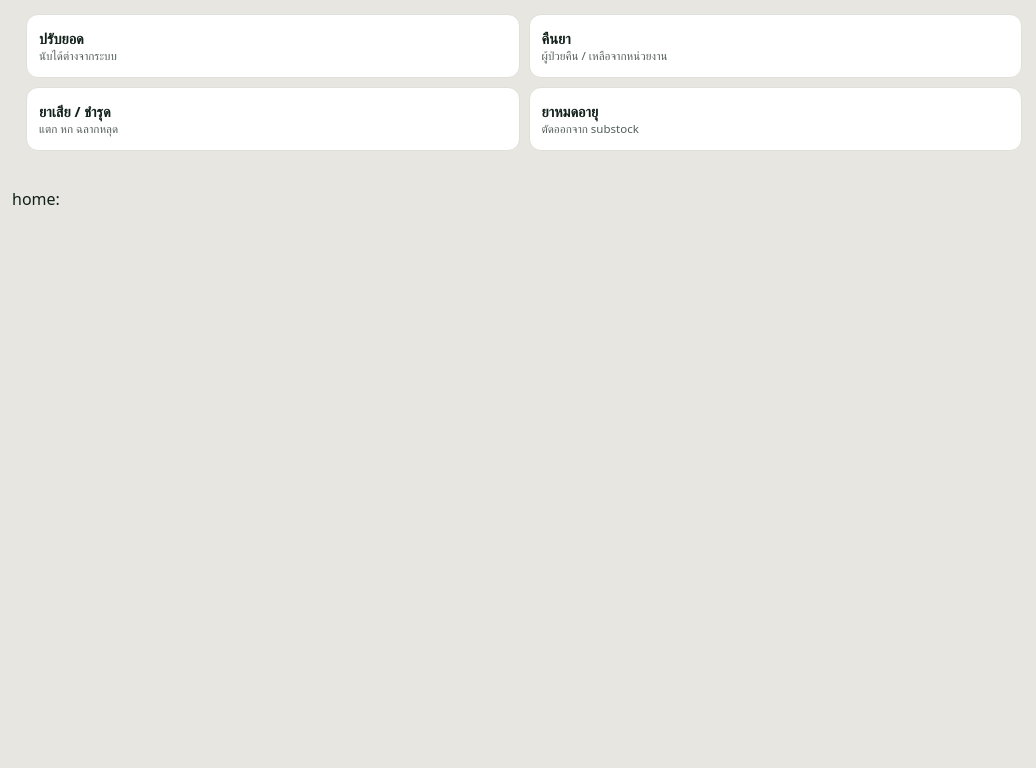
Scenario: AdjustScreen — search-result row CardPeekButton regression › tapping the row itself still picks the med for adjustment (the row's own primary action still works)
The width and height of the screenshot is (1036, 768).
Click the button "ปรับยอด นับได้ต่างจากระบบ" at x=61, y=38, box 26,14 -> 520,78
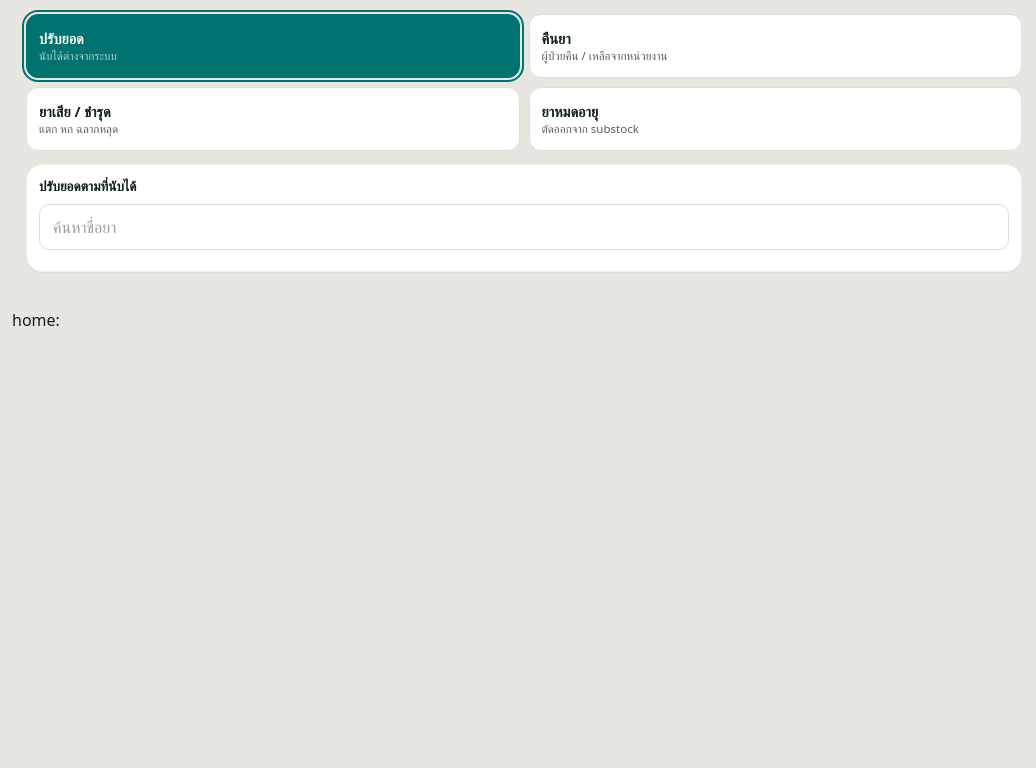
Type "Paracetamol" into the field with placeholder "ค้นหาชื่อยา" at x=524, y=227, box 39,204 -> 1009,250
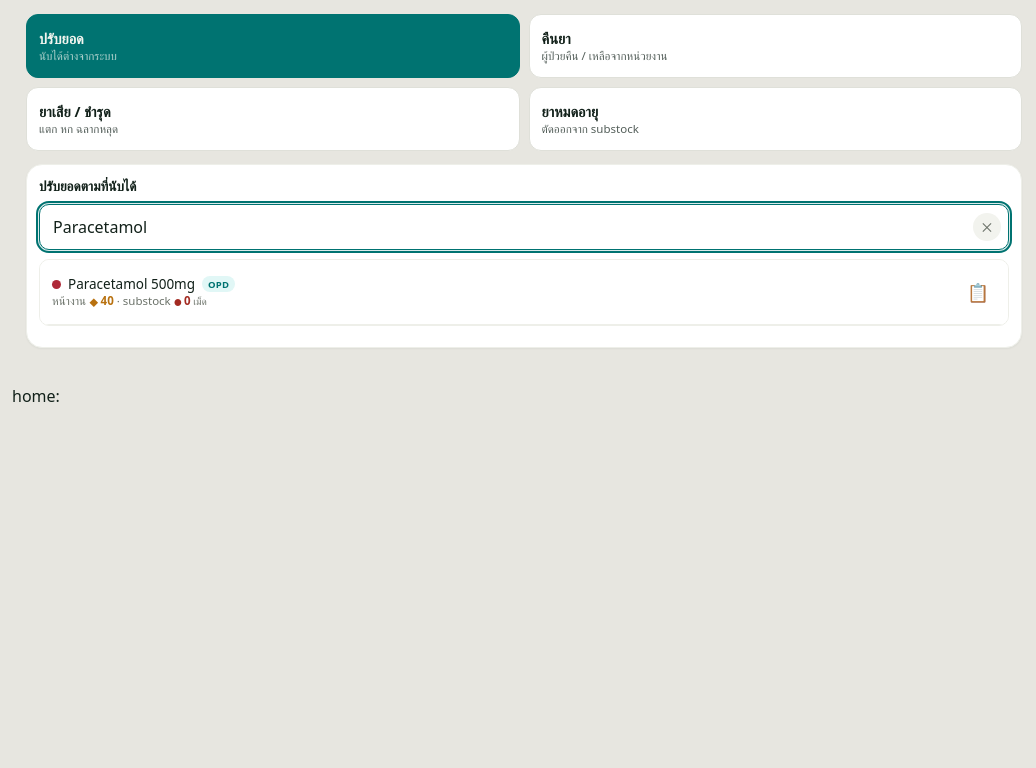
Click the text "Paracetamol 500mg" at x=144, y=284, box 52,275 -> 235,293
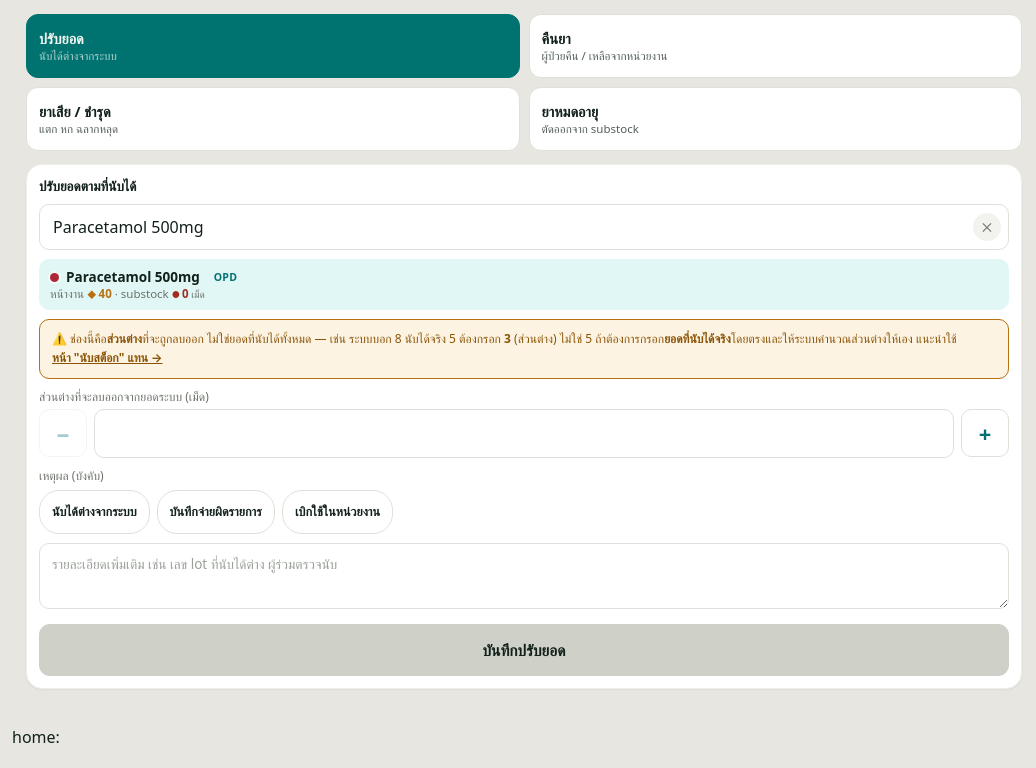
Expected: the text with test id "probe" does not show "substockcard", 12,726 -> 60,748
Now the text "ส่วนต่างที่จะลบออกจากยอดระบบ (เม็ด)" is shown, box 39,388 -> 209,404
